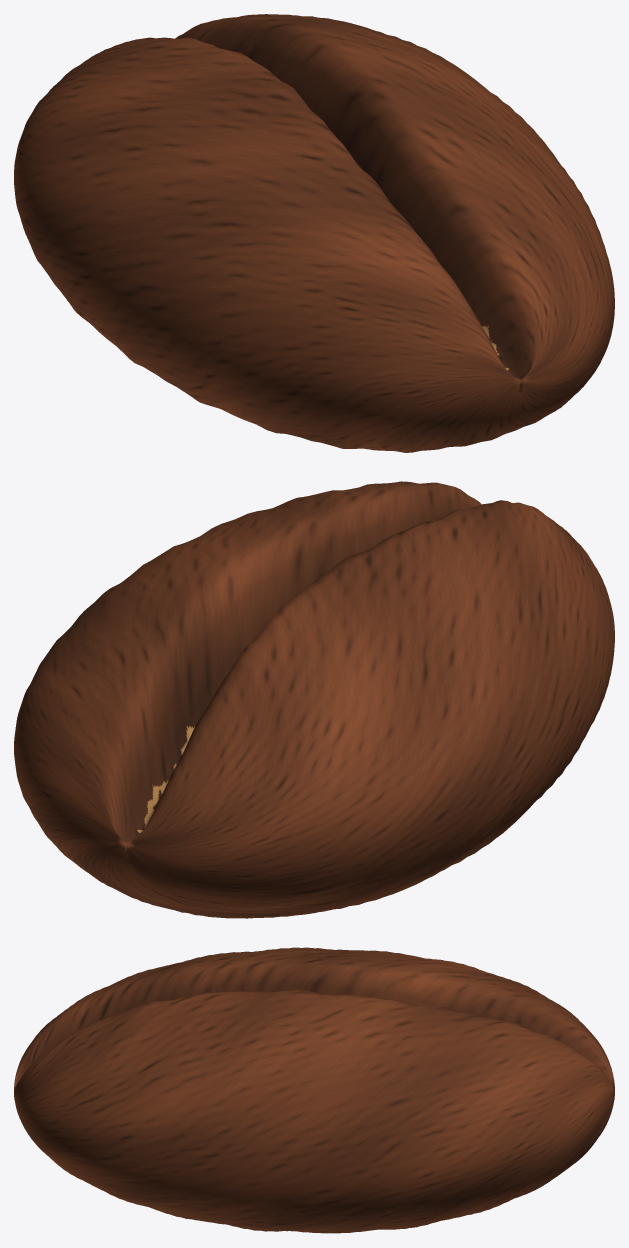
The model's file is coffee-bean.glb.
The picture shows the model from 3 angles, top to bottom: view 1: azimuth 30°, elevation 25°; view 2: azimuth 150°, elevation 25°; view 3: azimuth 270°, elevation 25°; orthographic projection. The views are drawn at different scales.
Visible parts, largest first — view 1: Arabica bean - sculpted center crease; view 2: Arabica bean - sculpted center crease; view 3: Arabica bean - sculpted center crease.
Part boxes in pixels (x1=…): Arabica bean - sculpted center crease: x1=14, y1=14, x2=614, y2=452; Arabica bean - sculpted center crease: x1=14, y1=481, x2=614, y2=918; Arabica bean - sculpted center crease: x1=14, y1=947, x2=614, y2=1233.
Bounding box in the file's own units: 0.008 × 0.0053 × 0.0124.
Materials: 1 (1 with a texture image).
